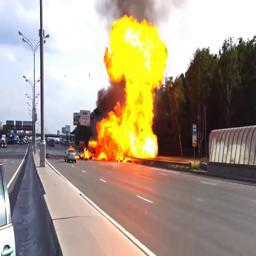fire: (80, 16, 168, 163)
